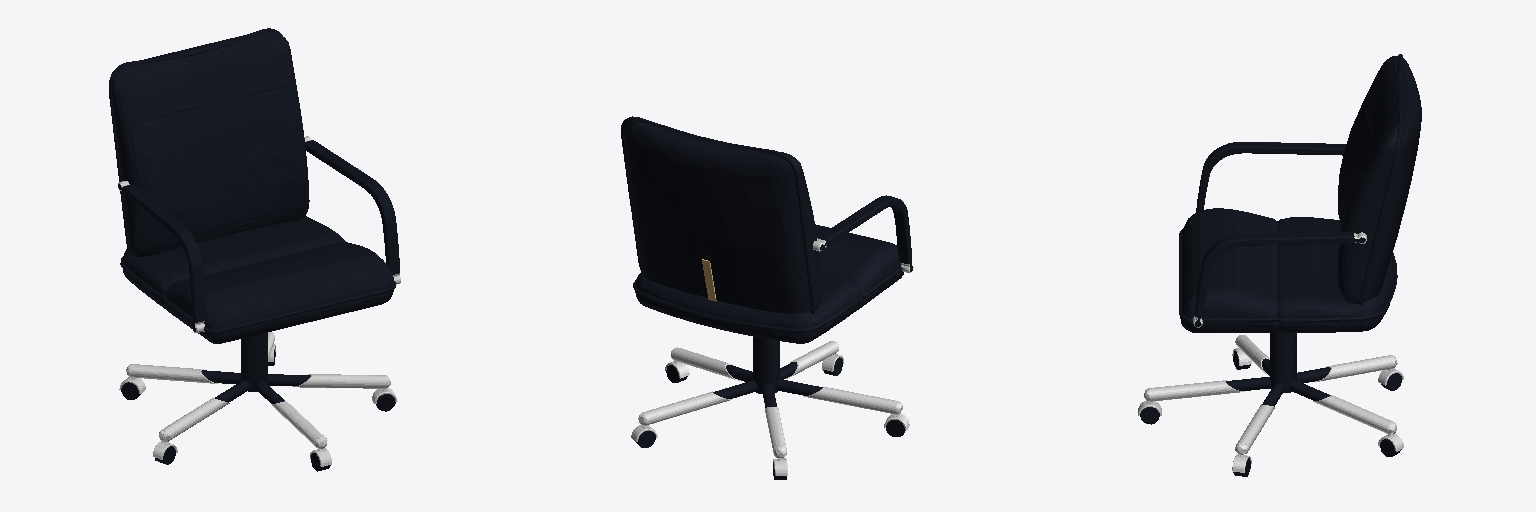
The picture shows the model from 3 angles: view 1: azimuth 30°, elevation 25°; view 2: azimuth 150°, elevation 25°; view 3: azimuth 270°, elevation 25°; orthographic projection.
Parts seen in each view (by area): view 1: solid_001, solid_003; view 2: solid_001, solid_003; view 3: solid_001, solid_003.
Boxes of the visible parts, <box> form: solid_001: <box>109,28,399,471</box>; solid_003: <box>118,136,400,466</box>; solid_001: <box>621,116,912,479</box>; solid_003: <box>631,238,913,475</box>; solid_001: <box>1140,54,1421,476</box>; solid_003: <box>1138,232,1403,472</box>.
Size of the model in its own units: 1.1 by 1.44 by 1.12.
Materials: 1 (1 with a texture image).